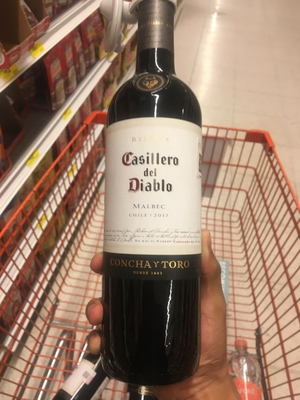casillero del diablo malbec: (91, 10, 232, 391)
